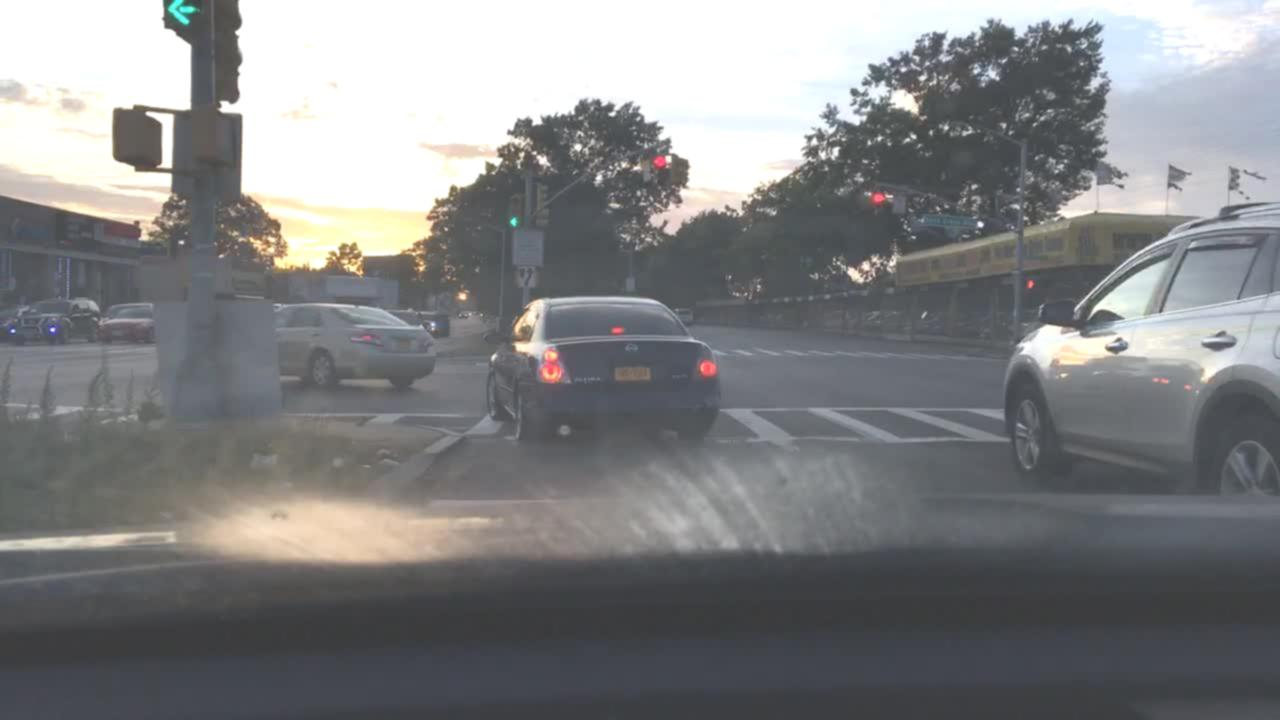Nissan: (620, 339, 644, 356)
